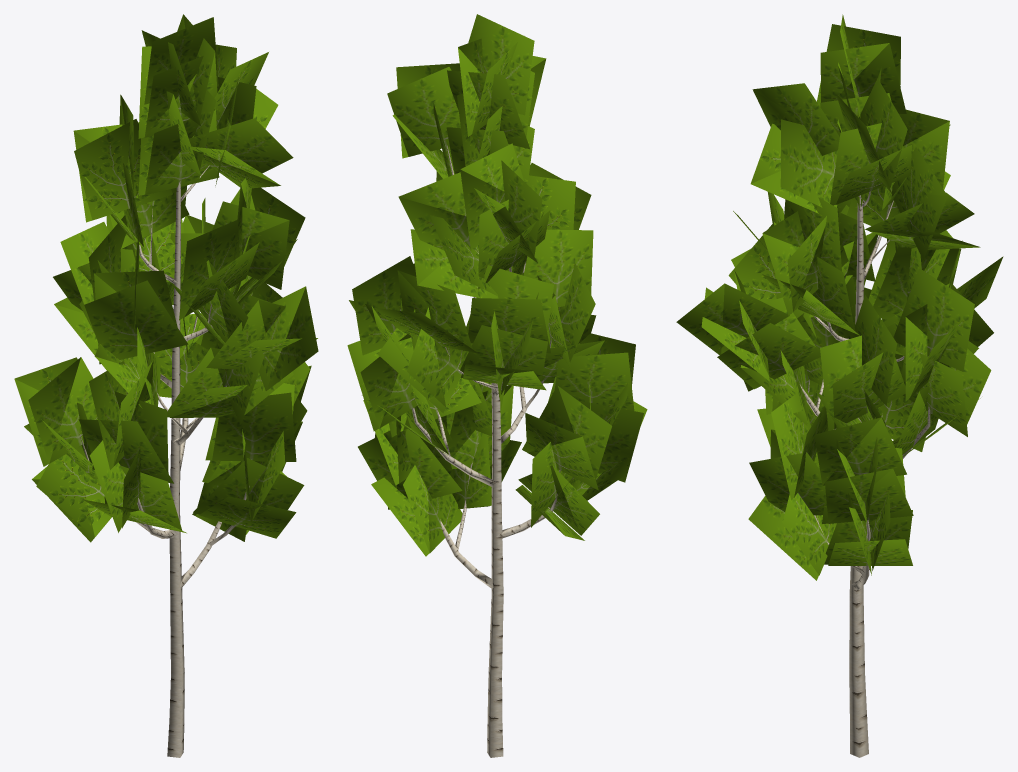
The model's file is Brich_01.glb.
The picture shows the model from 3 angles, left to right: view 1: azimuth 30°, elevation 25°; view 2: azimuth 150°, elevation 25°; view 3: azimuth 270°, elevation 25°; orthographic projection.
Visible parts, largest first — view 1: Birch_01; view 2: Birch_01; view 3: Birch_01.
Part boxes in pixels (left/top/right/bottom): Birch_01: left=14, top=14, right=318, bottom=757; Birch_01: left=347, top=14, right=647, bottom=757; Birch_01: left=676, top=14, right=1003, bottom=757.
Size of the model in its own units: 3.39 by 9.08 by 3.66.
1 material, 1 textured.
